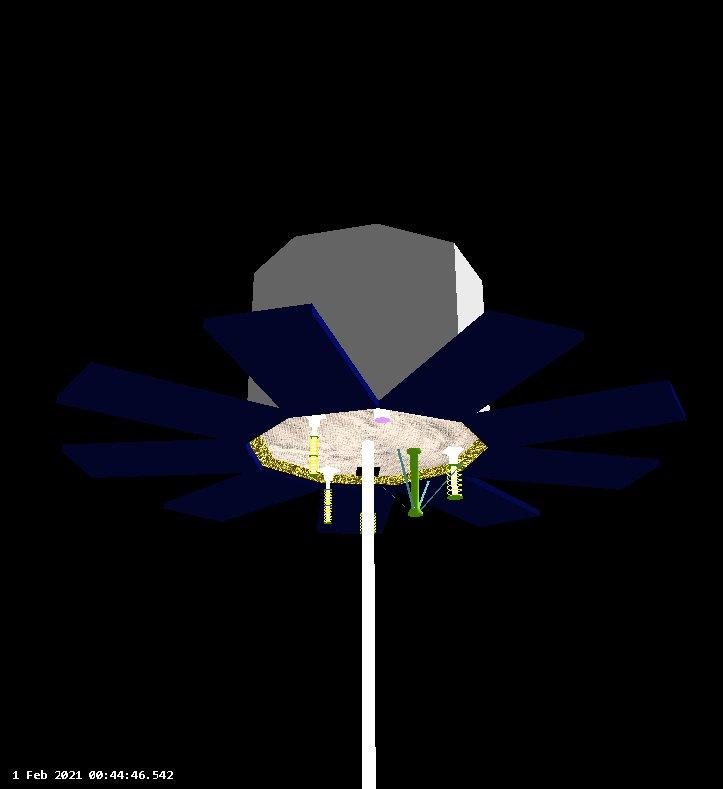antenna: (350, 435, 386, 789), (394, 445, 436, 522), (316, 464, 343, 527), (442, 443, 466, 509), (307, 415, 322, 477)
body: (247, 221, 494, 417)
solar: (377, 308, 587, 423), (199, 302, 376, 419), (53, 359, 293, 441), (459, 373, 690, 449), (463, 441, 663, 493), (393, 469, 542, 533), (161, 469, 325, 524), (54, 443, 267, 475), (318, 476, 403, 535)
